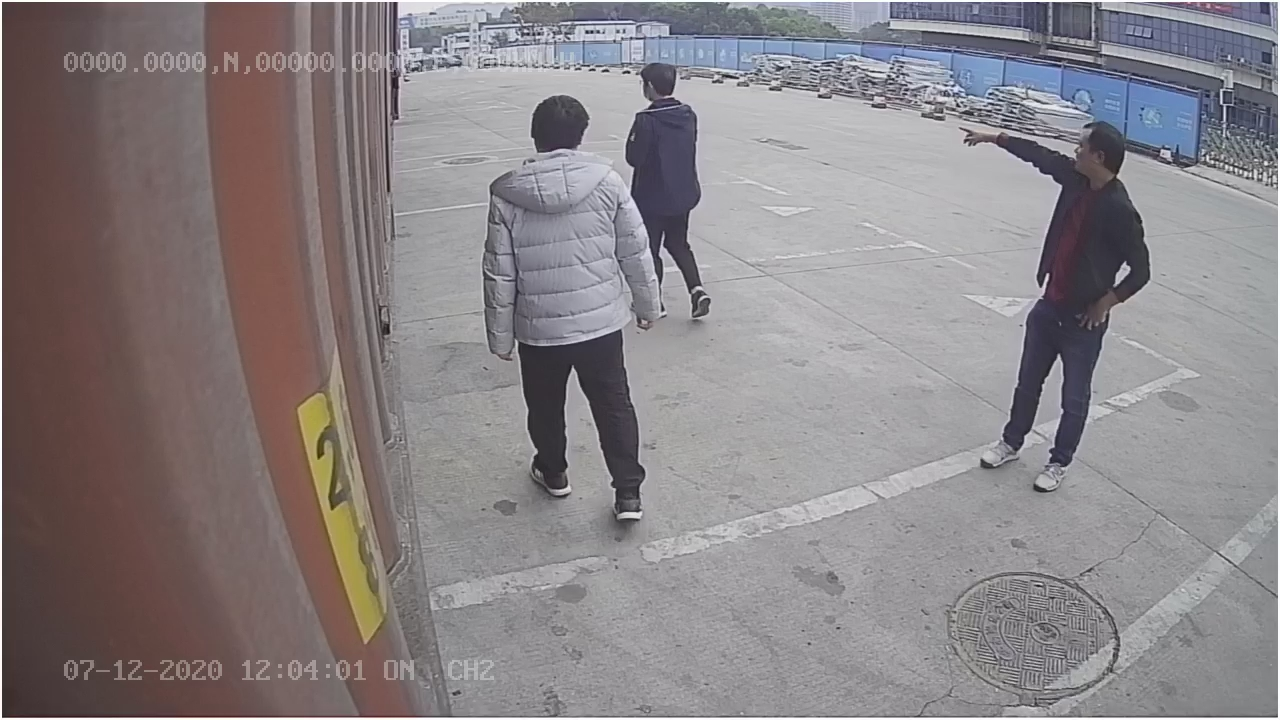person: (475, 95, 659, 521), (959, 109, 1152, 496)
